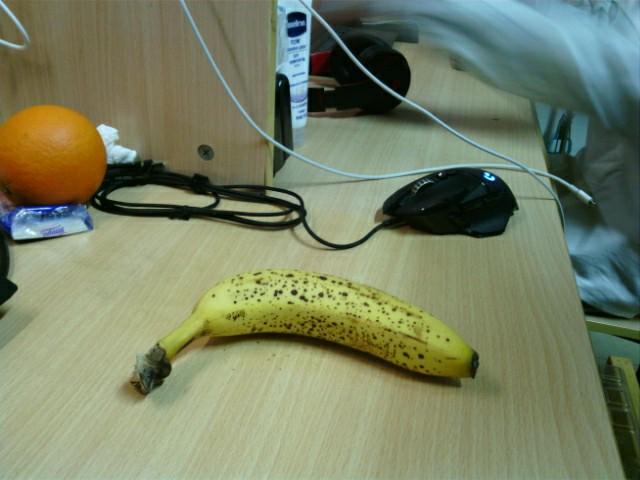normal_banana: (130, 267, 479, 397)
normal_orange: (4, 105, 107, 202)
